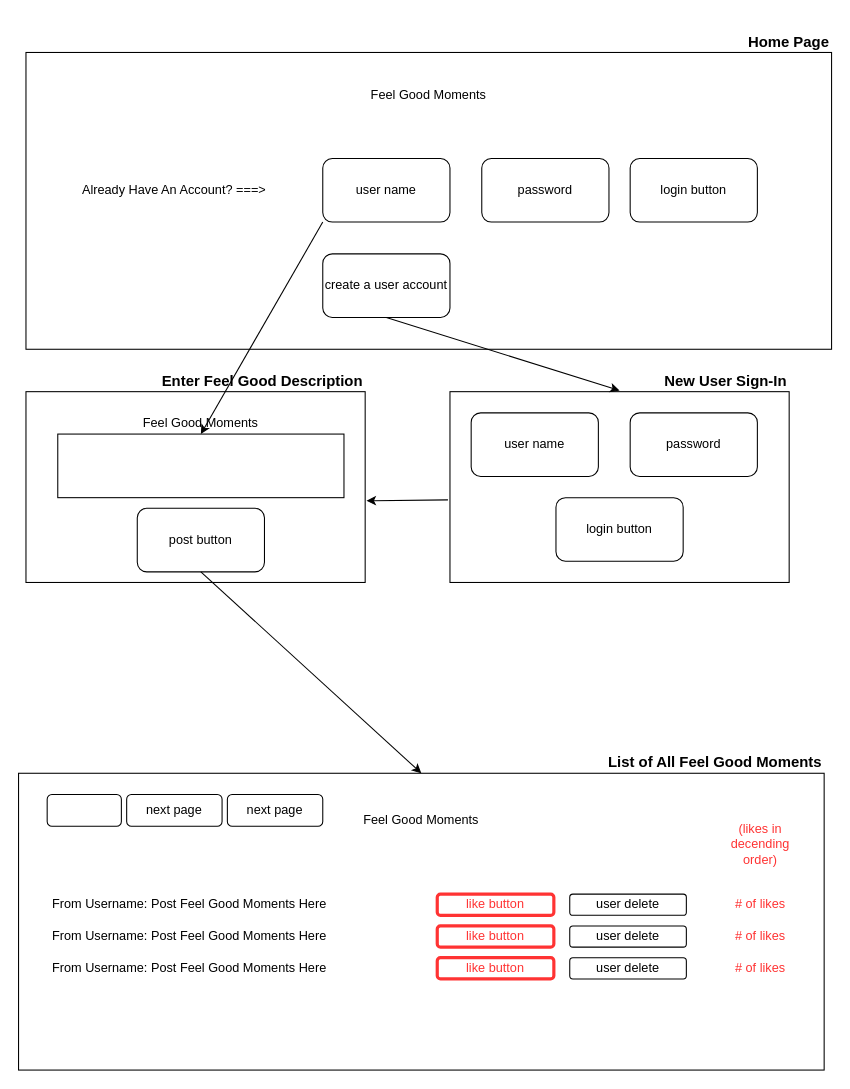
Some shapes in this 850 by 1089 pixel diagram are drawn without their labels. The box of each missing label's shape, as (x1, y1, x2, y2) in pixels:
enter feel good moment desscription: (57, 433, 344, 498)
home: (46, 793, 121, 826)
